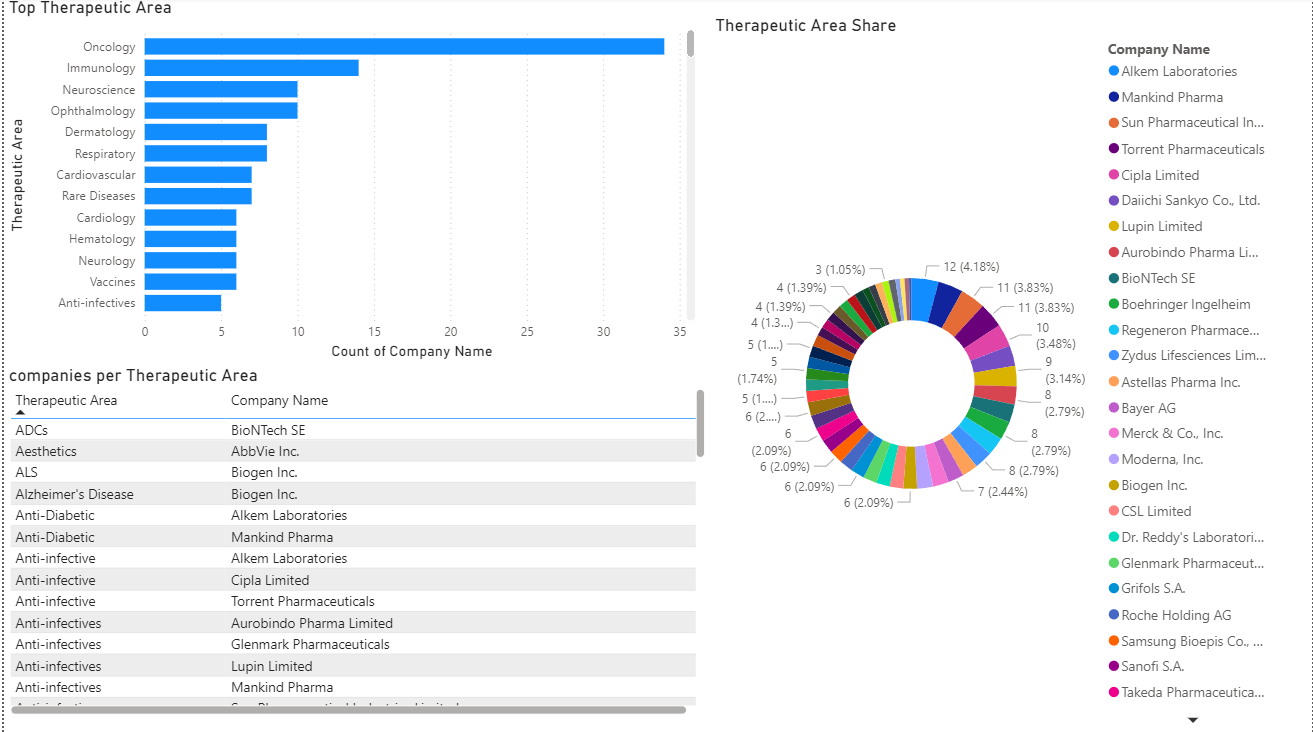

Layout of this report page (visuals, bound fields, positions):
{"tool":"powerbi","page":{"name":"Therapeutic Areas","canvas":[1280,720],"ordinal":2},"visuals":[{"type":"clusteredBarChart","title":"Top Therapeutic Area","fields":{"Category":["therapeutic_area_master.Therapeutic Area"],"Y":["CountNonNull(therapeutic_area_master.Company Name)"]},"box":[10,0,652.5,268.8],"z":0},{"type":"tableEx","title":"companies per Therapeutic Area","fields":{"Values":["therapeutic_area_master.Therapeutic Area","therapeutic_area_master.Company Name"]},"box":[50,295,361.2,287.5],"z":1000},{"type":"donutChart","title":"Therapeutic Area Share","fields":{"Category":["therapeutic_area_master.Company Name"],"Y":["CountNonNull(therapeutic_area_master.Therapeutic Area)"]},"box":[710,181.2,433.8,421.2],"z":2000}]}

Visuals, with their boxes in screenshot pixels (x1, y1, x2, y2), scaled from the page's 1280x720 canvas onto the 1313x732 screenshot:
"Top Therapeutic Area" clusteredBarChart: box=[10, 0, 680, 273]
"companies per Therapeutic Area" tableEx: box=[51, 300, 422, 592]
"Therapeutic Area Share" donutChart: box=[728, 184, 1173, 612]
